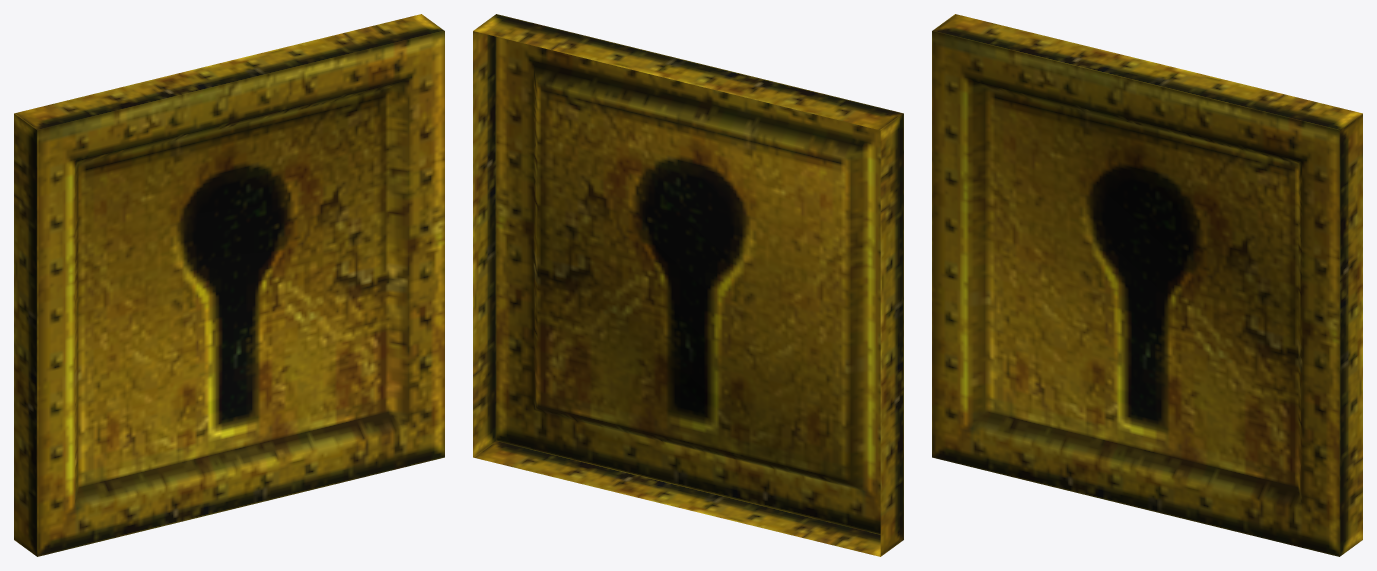
The model's file is Gold Key Pad.obj.
3 renders of one model, left to right at view 1: azimuth 30°, elevation 25°; view 2: azimuth 150°, elevation 25°; view 3: azimuth 330°, elevation 25°, orthographic.
Visible parts, largest first — view 1: MODELS_bin_079:poly000; view 2: MODELS_bin_079:poly000; view 3: MODELS_bin_079:poly000.
Part boxes in pixels (left/top/right/bottom): MODELS_bin_079:poly000: left=14, top=14, right=444, bottom=556; MODELS_bin_079:poly000: left=473, top=14, right=903, bottom=556; MODELS_bin_079:poly000: left=932, top=14, right=1362, bottom=556.
Bounding box in the file's own units: 0.128 × 0.128 × 0.0127.
1 material, 1 textured.
